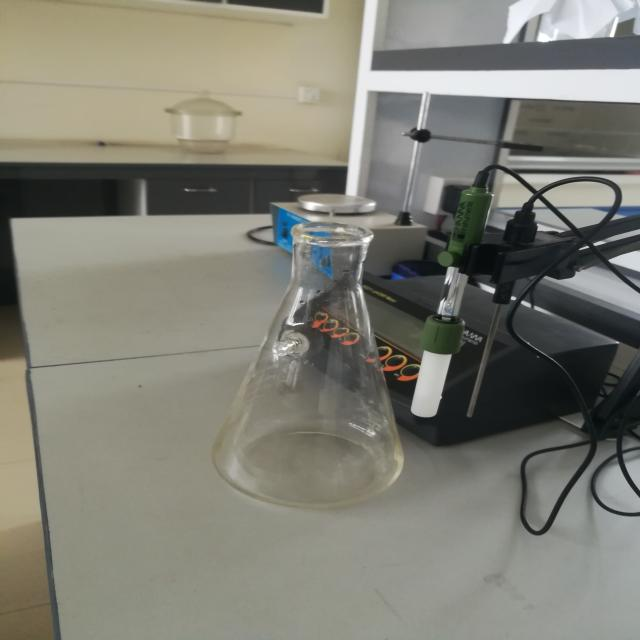Conical_Flask: (179, 184, 444, 523)
